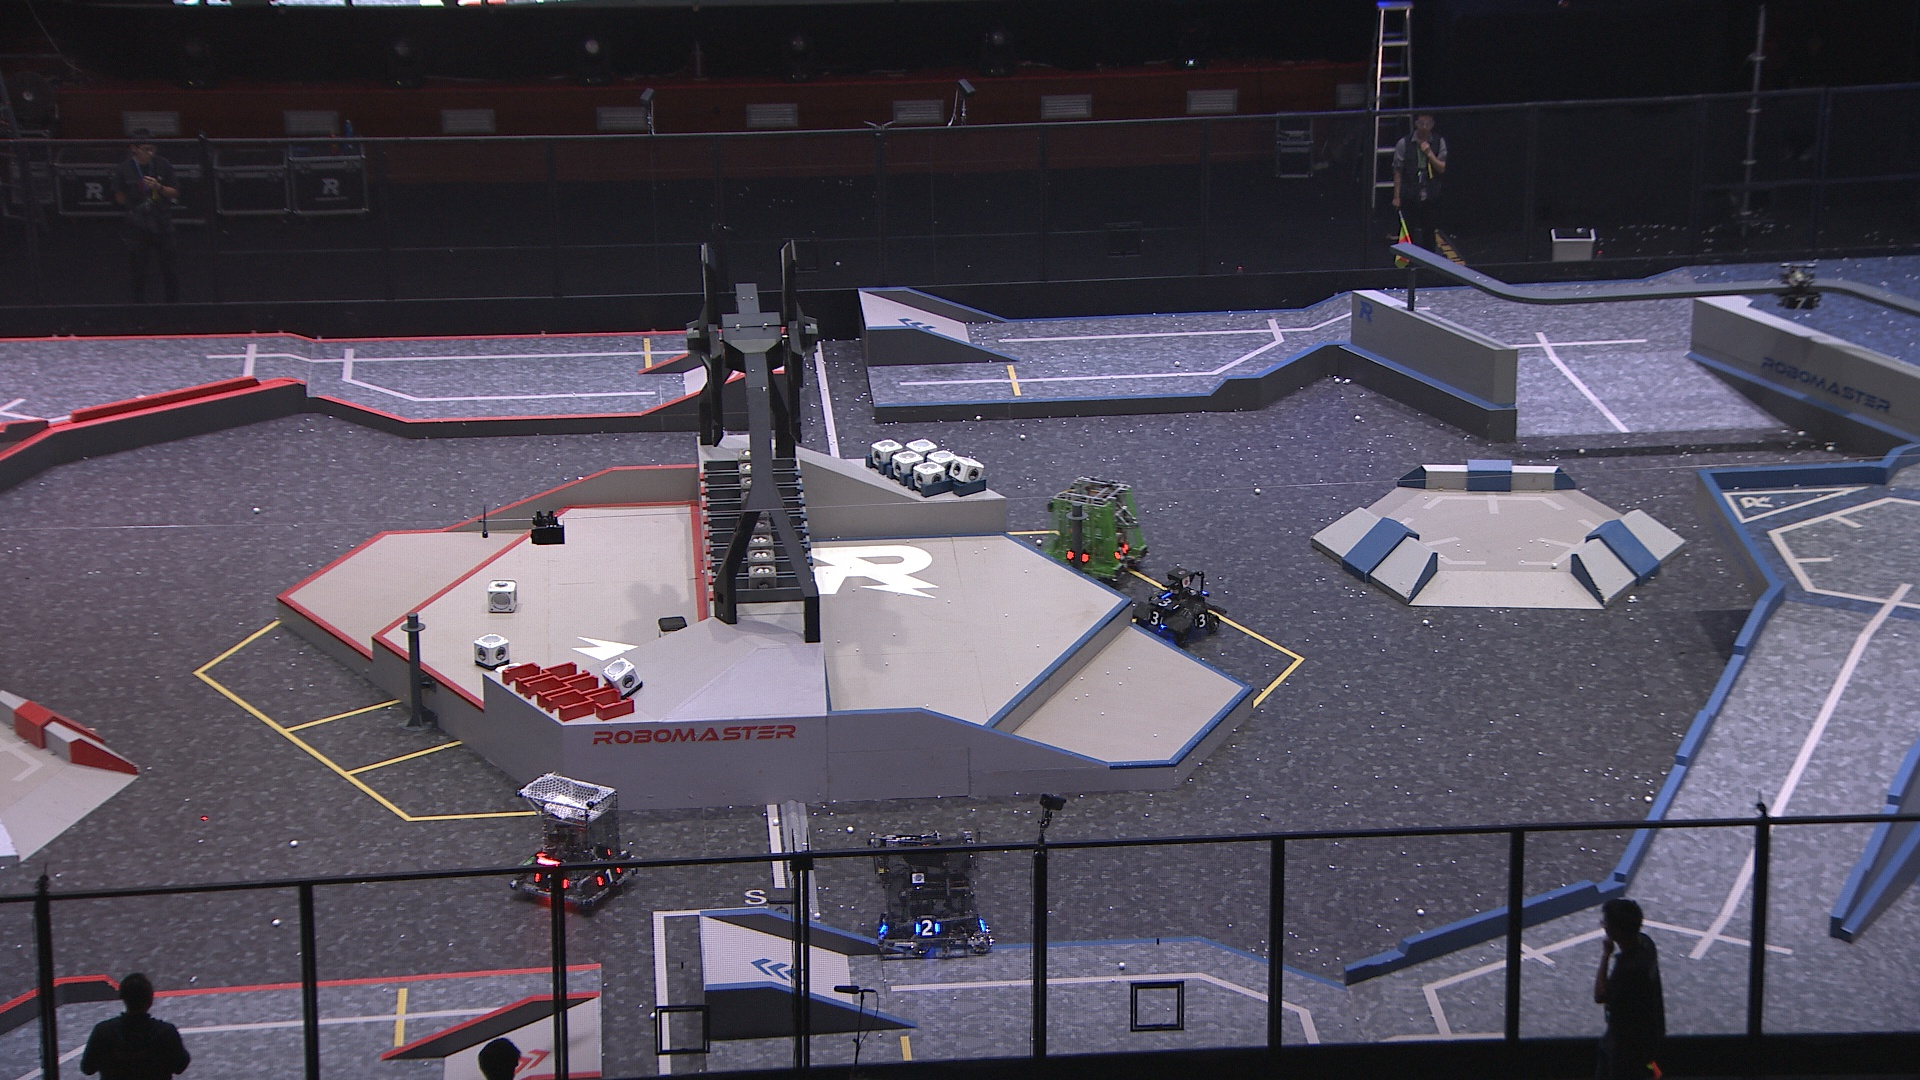armor: (595, 862, 624, 887), (911, 916, 942, 940), (1149, 595, 1182, 609), (1782, 295, 1815, 309), (1145, 611, 1164, 626), (1112, 543, 1129, 560), (1192, 613, 1211, 628)
car: (505, 770, 644, 913), (868, 825, 996, 959), (1040, 475, 1145, 583), (1129, 560, 1222, 644)
watcher: (1774, 261, 1822, 311)
